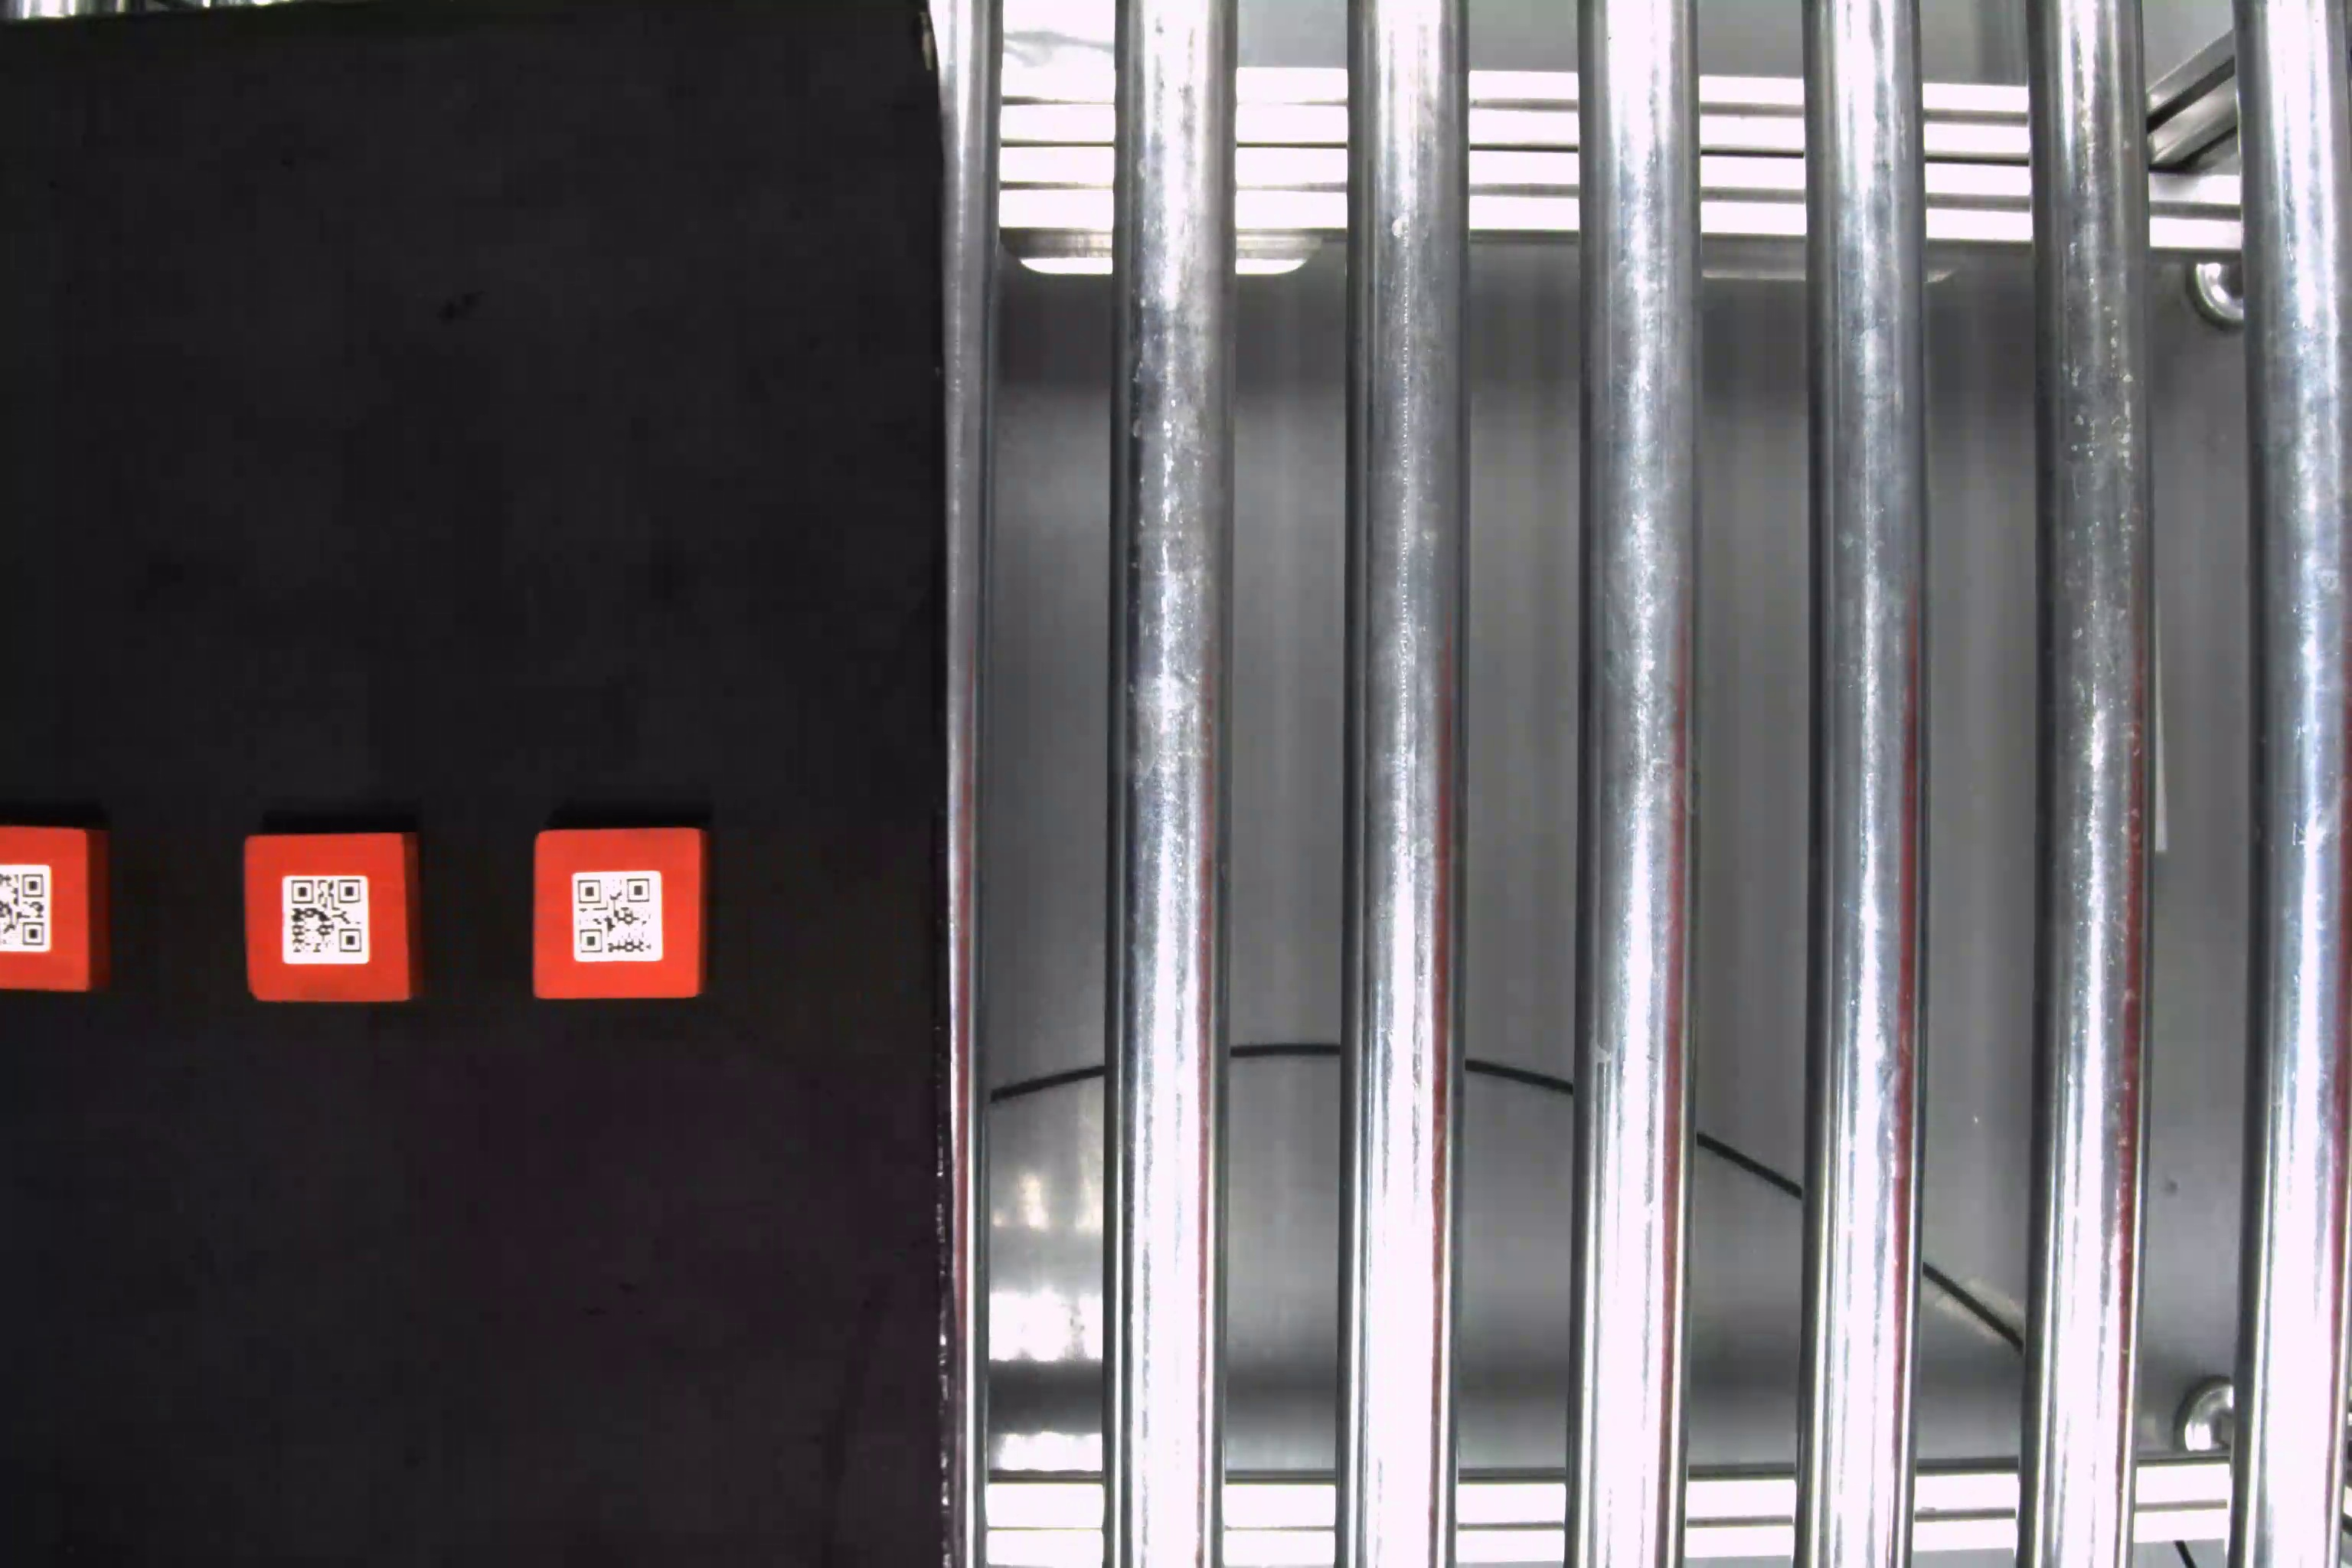wood: (238, 824, 436, 1008), (532, 828, 709, 996), (2, 824, 122, 994)
